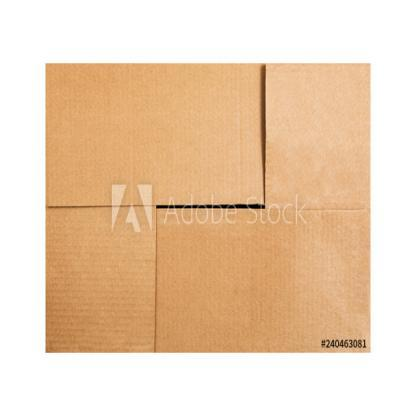package: (48, 62, 370, 352)
